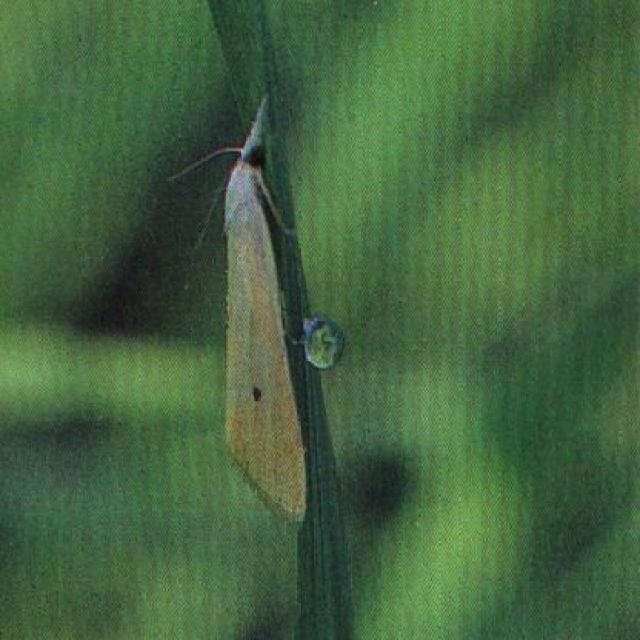stem-borer: (208, 90, 309, 532)
